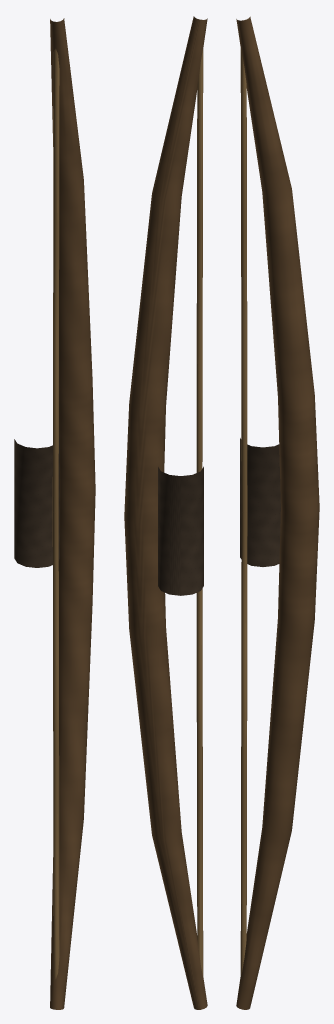
The model's file is generic_bow.glb.
The picture shows the model from 3 angles, left to right: view 1: azimuth 30°, elevation 25°; view 2: azimuth 150°, elevation 25°; view 3: azimuth 330°, elevation 25°; orthographic projection.
Parts seen in each view (by area): view 1: Bow; view 2: Bow; view 3: Bow.
Boxes of the visible parts, x1,y1,x2,y2 form: Bow: (14, 18, 95, 1009); Bow: (124, 16, 207, 1009); Bow: (236, 16, 319, 1009).
Bounding box in the file's own units: 0.098 × 1.24 × 0.0789.
3 materials, 3 textured.
